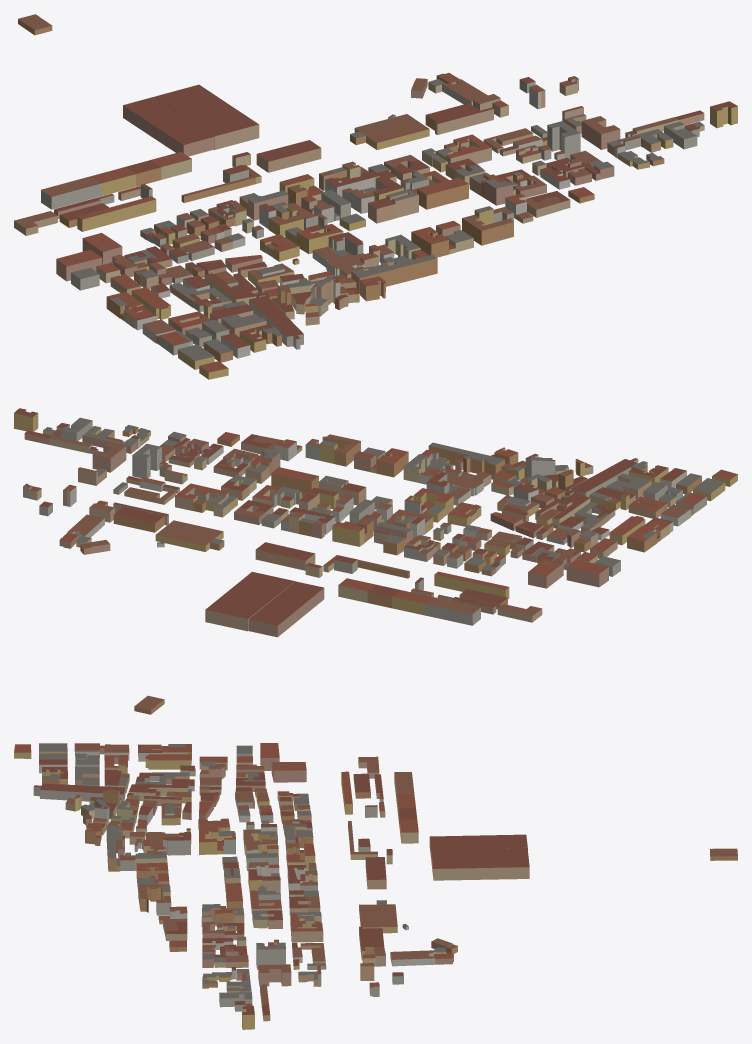
File: SM_Fondale_Citta_O_01.fbx
3 views of the same model, one above another, from view 1: azimuth 30°, elevation 25°; view 2: azimuth 150°, elevation 25°; view 3: azimuth 270°, elevation 25° (orthographic). The views are drawn at different scales.
Parts seen in each view (by area): view 1: SM_Fondale_Citta_O_01; view 2: SM_Fondale_Citta_O_01; view 3: SM_Fondale_Citta_O_01.
Boxes of the visible parts, left/top/right/bottom form: SM_Fondale_Citta_O_01: left=14, top=14, right=737, bottom=379; SM_Fondale_Citta_O_01: left=14, top=408, right=737, bottom=714; SM_Fondale_Citta_O_01: left=14, top=743, right=737, bottom=1029.
Size of the model in its own units: 87904 by 96743 by 3576.
